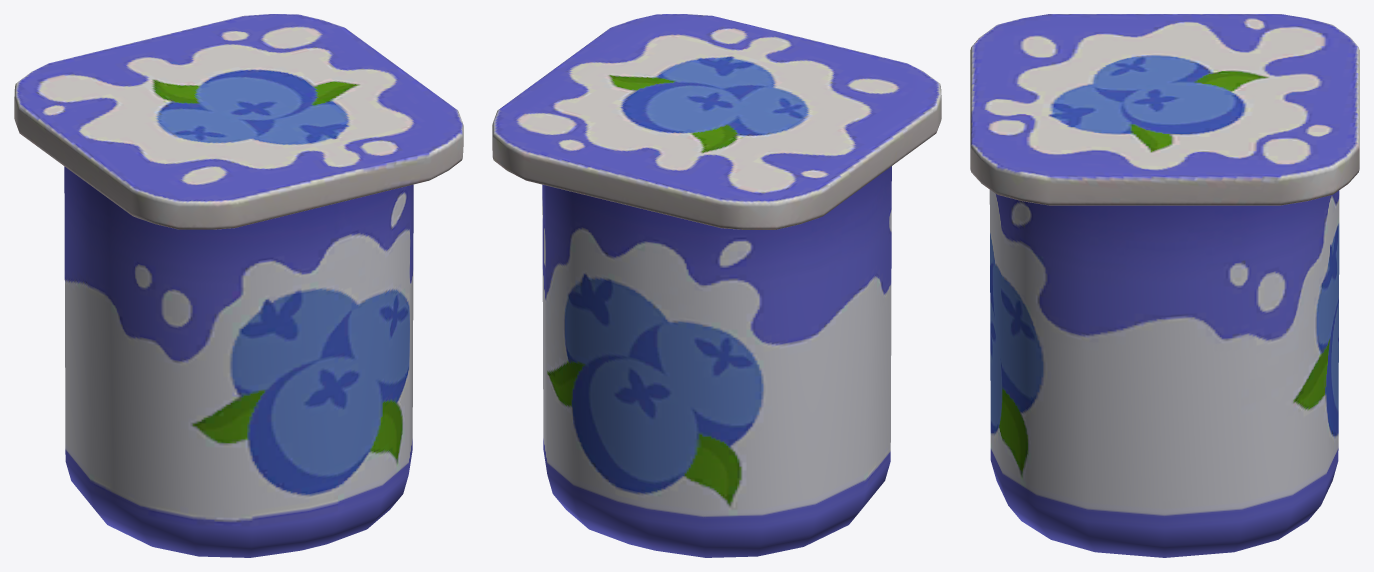
Rendered from 0-yoghurt_blue.fbx.
3 renders of one model, left to right at view 1: azimuth 30°, elevation 25°; view 2: azimuth 150°, elevation 25°; view 3: azimuth 270°, elevation 25°, orthographic. The views are drawn at different scales.
Parts seen in each view (by area): view 1: 0-yoghurt_blue; view 2: 0-yoghurt_blue; view 3: 0-yoghurt_blue.
Boxes of the visible parts, bbox=[...] form: 0-yoghurt_blue: bbox=[14, 14, 463, 557]; 0-yoghurt_blue: bbox=[492, 14, 941, 557]; 0-yoghurt_blue: bbox=[970, 14, 1359, 557].
Size of the model in its own units: 65.65 by 73.82 by 65.65.
